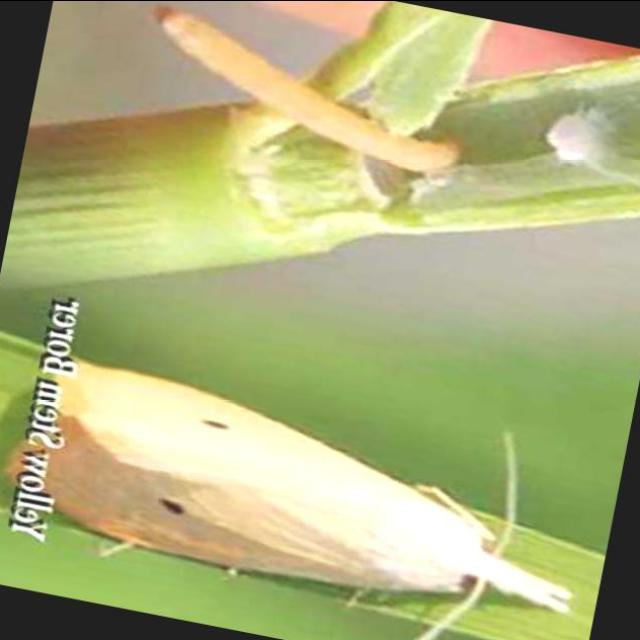stem borer: (0, 299, 571, 640), (157, 8, 460, 172)
